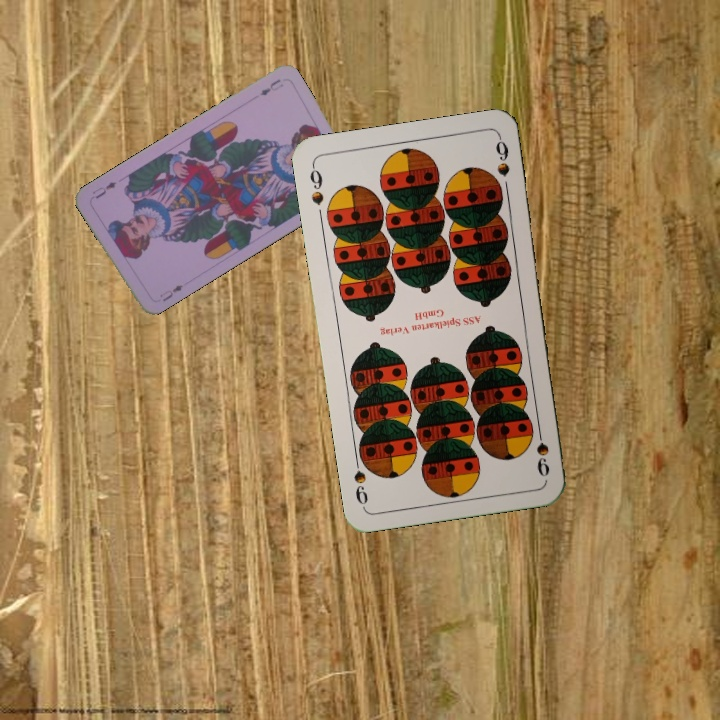EU: (155, 281, 185, 304), (256, 75, 286, 98)
S9: (532, 421, 552, 479), (306, 161, 327, 208)
